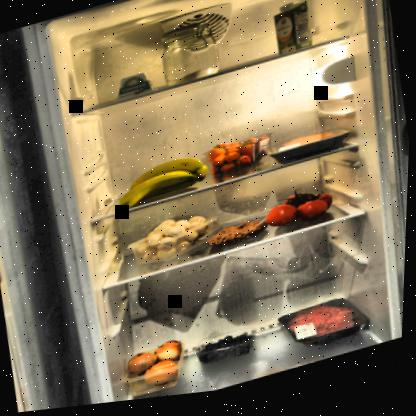banana: (113, 154, 211, 214)
blueberries: (197, 330, 264, 376)
ground_beef: (279, 291, 385, 364)
heavy_cream: (268, 5, 316, 64)
mushrooms: (128, 208, 230, 271)
onion: (129, 339, 186, 396)
shrimp: (208, 219, 270, 258)
strawberries: (205, 134, 276, 181)
tomato: (261, 186, 340, 241)
